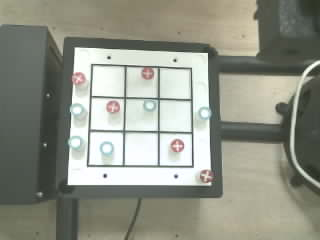blue circle: (68, 136, 82, 149), (100, 141, 113, 155), (70, 103, 84, 115), (198, 107, 211, 119), (143, 100, 156, 111)
board: (66, 46, 212, 187)
cells: (89, 132, 122, 164), (125, 133, 157, 165), (90, 98, 123, 129), (160, 134, 192, 165), (160, 100, 191, 131), (126, 99, 157, 130), (92, 66, 124, 96), (160, 68, 190, 98), (127, 67, 157, 97)
grid: (87, 64, 193, 167)
red cross: (71, 72, 85, 84), (171, 139, 183, 152), (106, 100, 119, 112), (141, 67, 153, 79), (200, 170, 212, 182)
